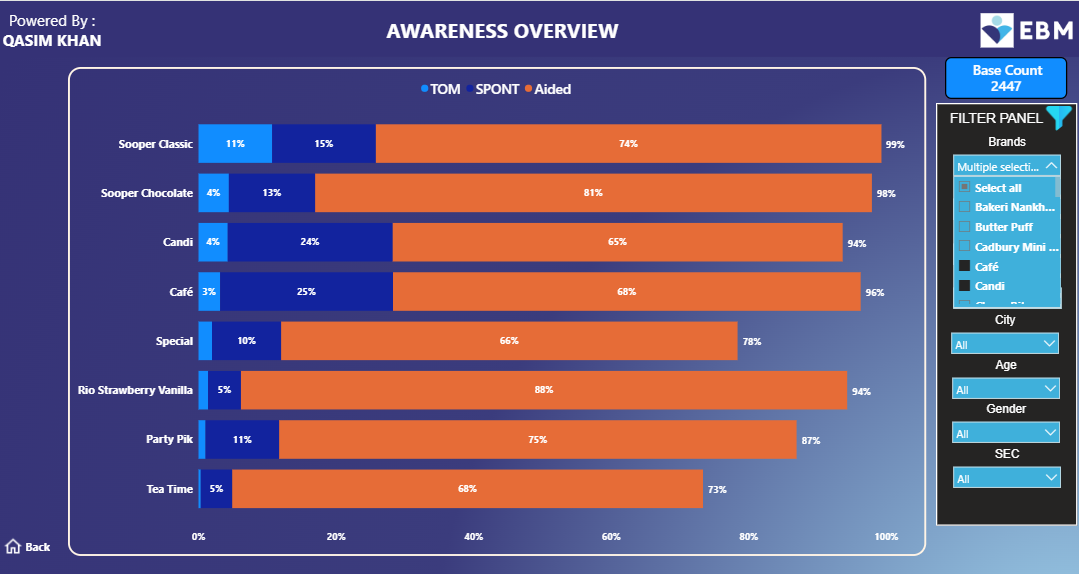

The page's visual inventory and layout, read from the dashboard file:
{"tool":"powerbi","page":{"name":"Awareness Overview","canvas":[1700,900],"ordinal":9},"visuals":[{"type":"shape","box":[1474,160,222,664],"z":0},{"type":"shape","box":[0,0,1699.7,87.9],"z":1000},{"type":"textbox","box":[514.8,18.3,555.1,60.5],"z":2000},{"type":"card","title":"Base Count","fields":{"Values":["Sheet1.BaseCount"]},"box":[1488,88,192,66],"z":3000},{"type":"barChart","fields":{"Y":["Brand Table.TOM %","Brand Table.SPONT %","Brand Table.Aided %"],"Category":["Brand Table.Brands"]},"box":[109.9,104.4,1348.3,767.6],"z":4000},{"type":"image","box":[1598.2,7.8,97.7,74.2],"z":5000},{"type":"image","box":[1527.8,13.7,82.1,64.5],"z":6000},{"type":"actionButton","box":[5.4,824.4,81,63],"z":7000},{"type":"image","box":[1634,154,66,58],"z":8000},{"type":"textbox","box":[1474,168,190,50],"z":9000},{"type":"slicer","title":"Brands","fields":{"Values":["Brand Table.Brands"]},"box":[1490.4,210,189,73.8],"z":10000},{"type":"slicer","title":"Period","fields":{"Values":["Sheet1.Wave"]},"box":[1490.4,280,189,73.8],"z":11000},{"type":"slicer","title":"EBM Region","fields":{"Values":["Sheet1.VBH: Region Hierarchy.VBH: Region","Sheet1.VBH: Region Hierarchy.EBM-SubRegion"]},"box":[1490.4,350,189,73.8],"z":12000},{"type":"slicer","title":"City","fields":{"Values":["Sheet1.VBG: City"]},"box":[1488,490,189,73.8],"z":13000},{"type":"slicer","title":"Age","fields":{"Values":["Sheet1.VBL: Age Range"]},"box":[1488.6,560,189,73.8],"z":14000},{"type":"slicer","title":"Gender","fields":{"Values":["Sheet1.S5: Gender"]},"box":[1488.6,630,189,73.8],"z":15000},{"type":"slicer","title":"SEC","fields":{"Values":["Sheet1.VBQ: Autocode SEC"]},"box":[1490.4,700,189,73.8],"z":16000},{"type":"slicer","title":"Strata","fields":{"Values":["Sheet1.UR: Urbanization"]},"box":[1490,420,190,74],"z":17000},{"type":"textbox","box":[0,7.2,169.9,89.3],"z":18000}]}

Visuals, with their boxes in screenshot pixels (x1, y1, x2, y2), scaled from the page's 1700x900 canvas onto the 1079x574 screenshot:
shape: 936/102/1076/526
shape: 0/0/1078/56
textbox: 327/12/679/50
"Base Count" card: 944/56/1066/98
barChart - Brand Table.TOM % x Brand Table.SPONT %: 70/67/926/556
image: 1014/5/1076/52
image: 970/9/1022/50
actionButton: 3/526/55/566
image: 1037/98/1078/135
textbox: 936/107/1056/139
"Brands" slicer: 946/134/1066/181
"Period" slicer: 946/179/1066/226
"EBM Region" slicer: 946/223/1066/270
"City" slicer: 944/313/1064/360
"Age" slicer: 945/357/1065/404
"Gender" slicer: 945/402/1065/449
"SEC" slicer: 946/446/1066/494
"Strata" slicer: 946/268/1066/315
textbox: 0/5/108/62
